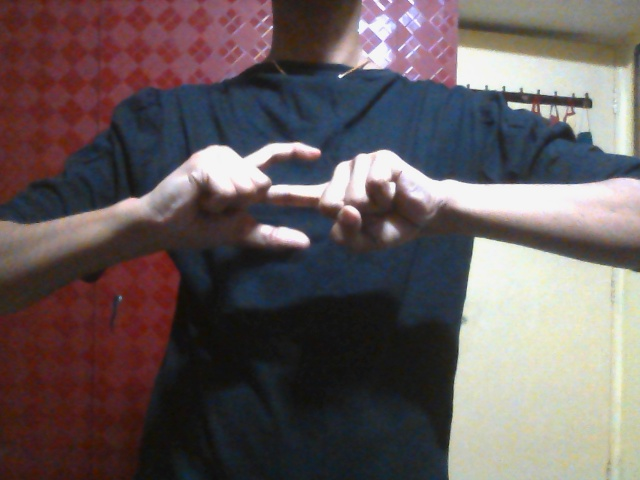E: (155, 137, 442, 254)
